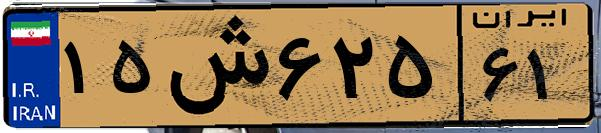1: (57, 26, 110, 100), (525, 38, 570, 115)
2: (330, 28, 385, 110)
5: (385, 28, 445, 110), (110, 28, 158, 98)
6: (270, 28, 330, 110), (475, 38, 525, 113)
ش: (158, 12, 270, 120)
